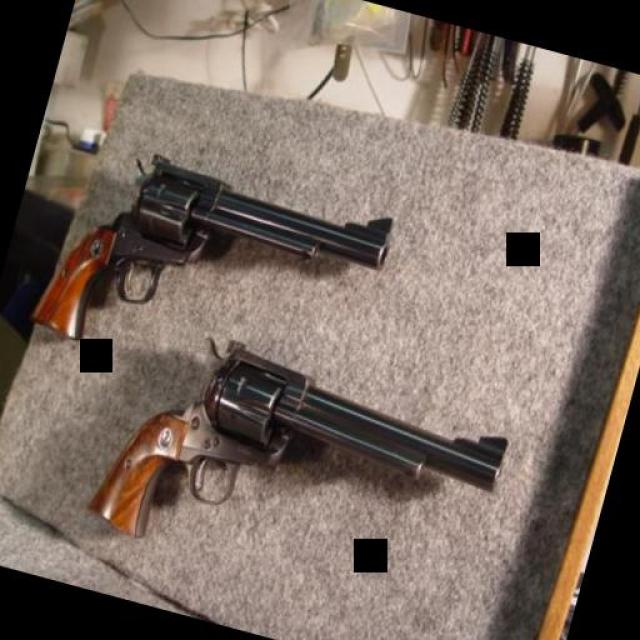gun: (82, 314, 518, 618), (21, 122, 401, 418)
